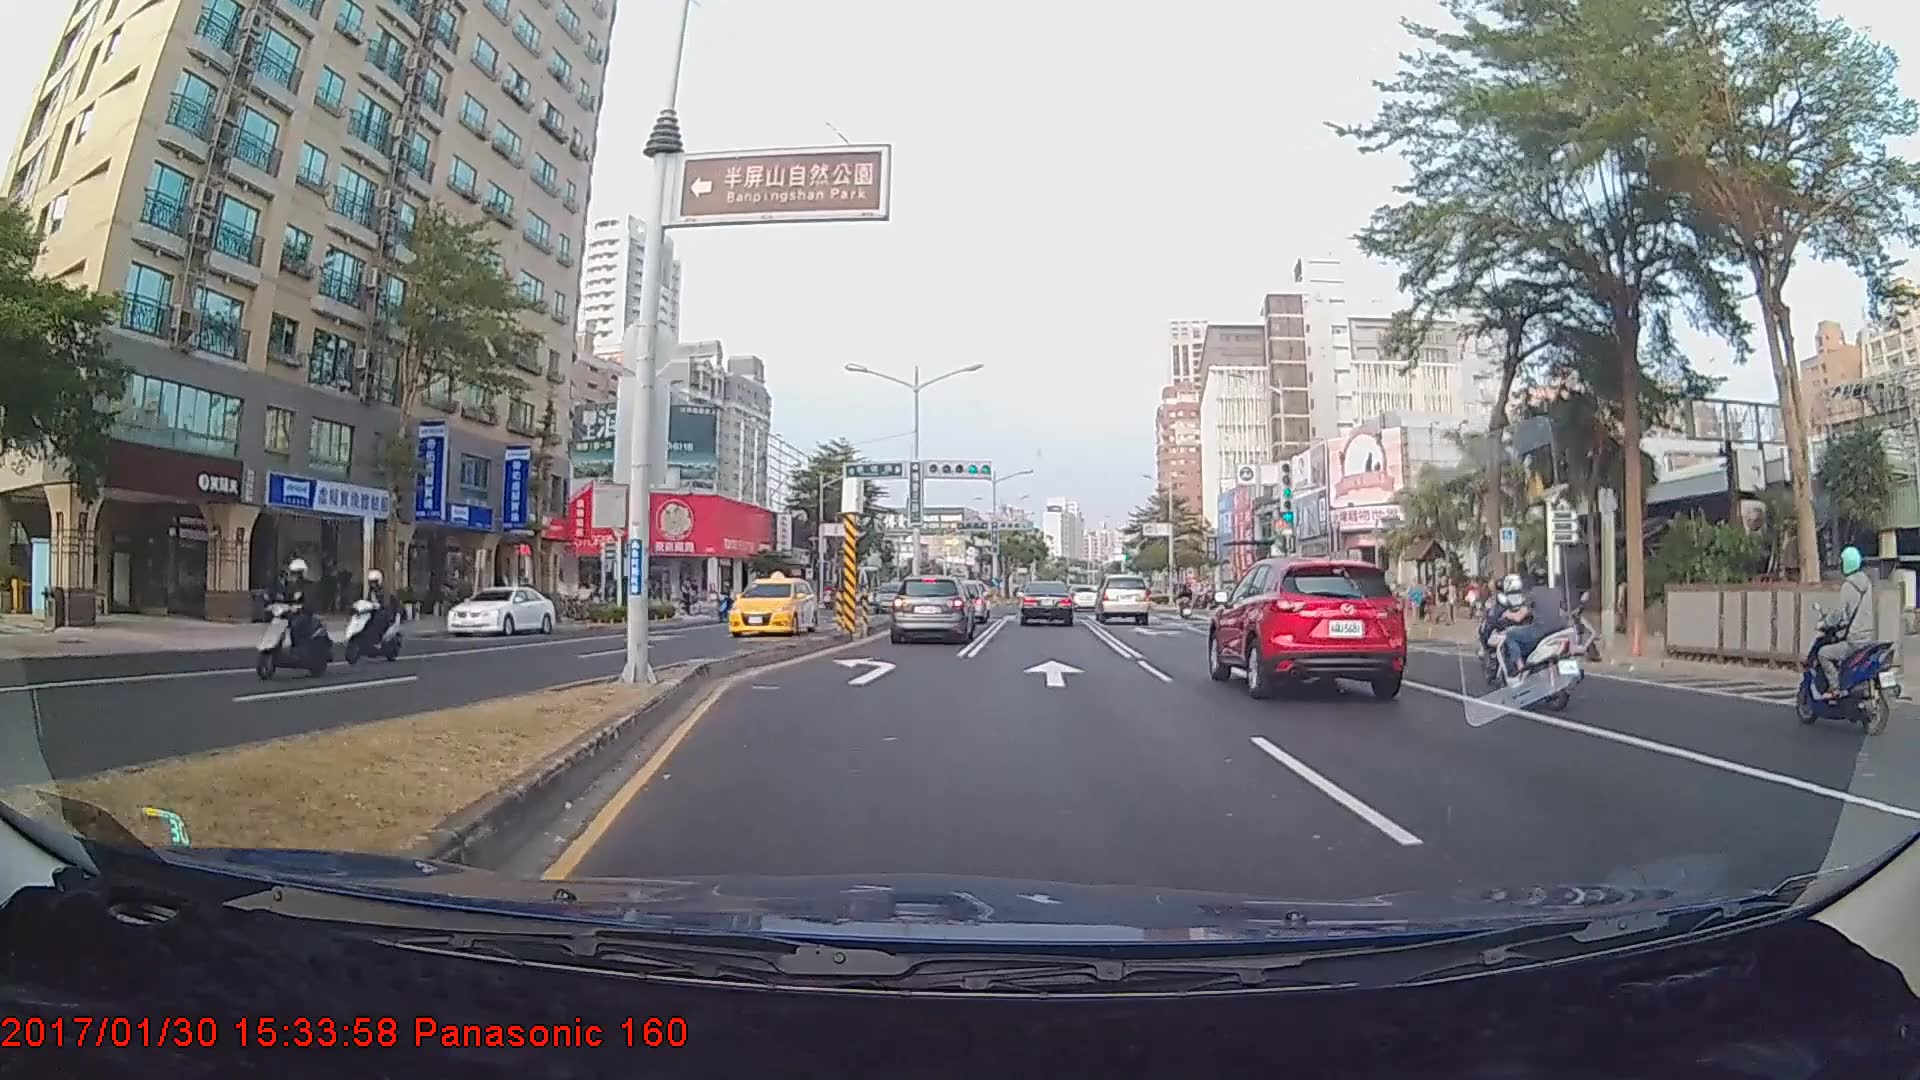rider: (1791, 543, 1909, 737), (1491, 562, 1593, 713), (251, 559, 338, 683), (335, 571, 404, 670)
vehicle: (1208, 551, 1411, 699), (729, 571, 820, 636), (887, 575, 973, 644), (446, 585, 556, 637), (1093, 574, 1151, 625), (1017, 579, 1074, 627)
